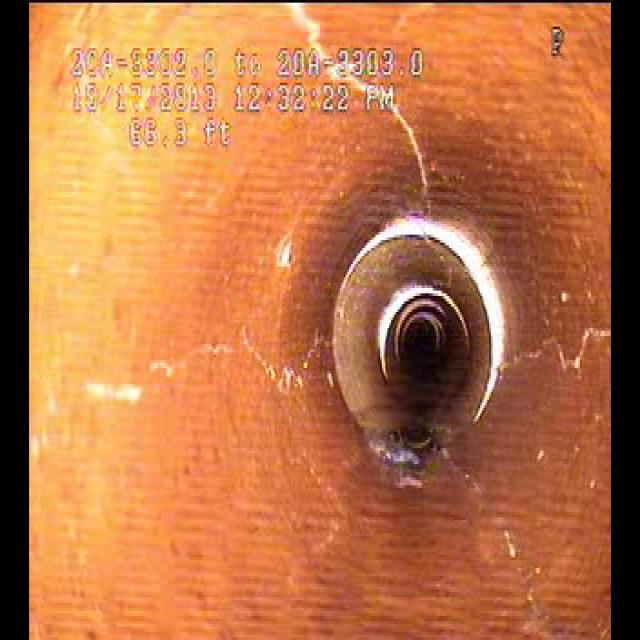Crack: (139, 276, 325, 416), (514, 298, 602, 409)
